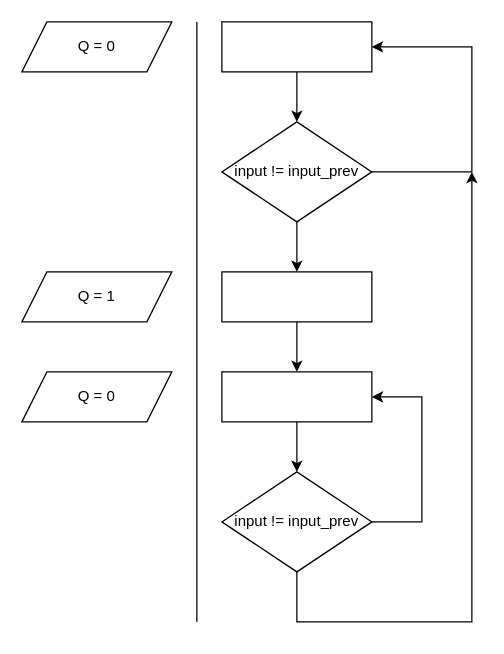
Image size: 504x654. Some labels were removed from this diagram. The shapes that lost their labels are listed below. From the top down, each one's centre as x and y in pixels, then its label:
At point (296, 46): "IDLE".
At point (296, 296): "PULSE_H".
At point (296, 396): "PULSE_L".
